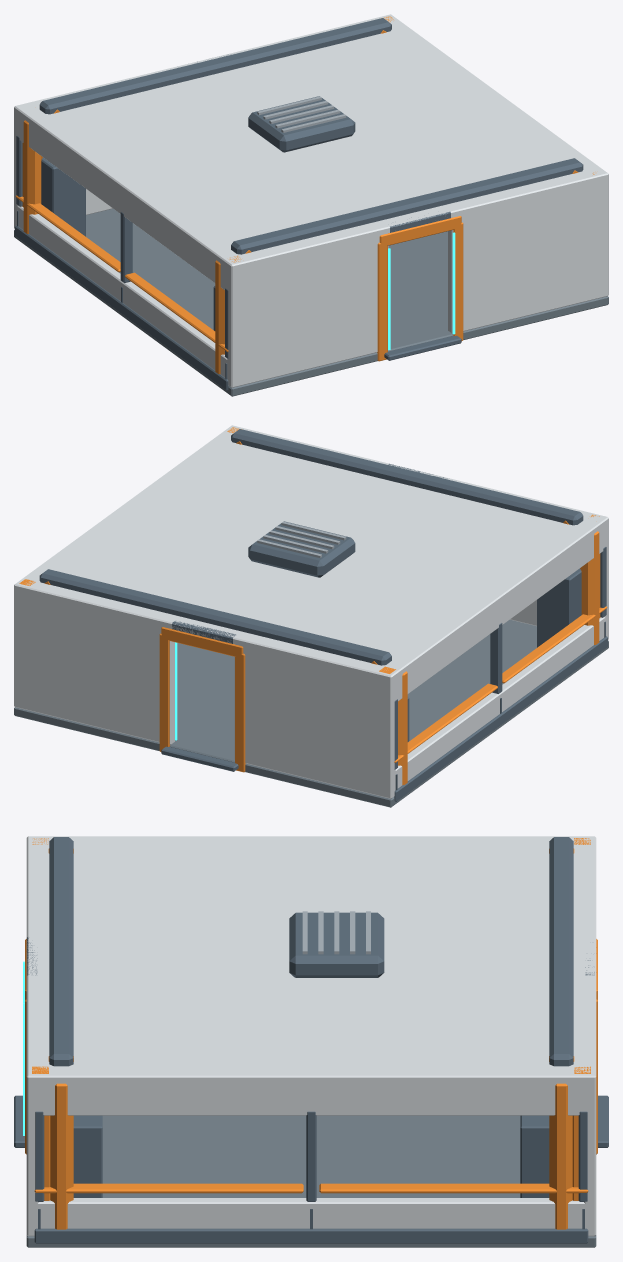
The model's file is room-WarehouseRoom.fbx.
The picture shows the model from 3 angles, top to bottom: view 1: azimuth 30°, elevation 25°; view 2: azimuth 150°, elevation 25°; view 3: azimuth 270°, elevation 25°; orthographic projection. The views are drawn at different scales.
Parts seen in each view (by area): view 1: room-WarehouseRoom_Roof.001, room-WarehouseRoom_End panel.004, room-WarehouseRoom_End panel.005, room-WarehouseRoom_Deck.001, room-WarehouseRoom_Window sill.002, room-WarehouseRoom_Roof cross brace.001, room-WarehouseRoom_Roof cross brace, room-WarehouseRoom_Window head.002, room-WarehouseRoom_Roof service pod, room-WarehouseRoom_Lower armour band, room-WarehouseRoom_Wall locker.005, room-WarehouseRoom_Armoured corner post.002 (+9 smaller); view 2: room-WarehouseRoom_Roof.001, room-WarehouseRoom_End panel.007, room-WarehouseRoom_End panel.006, room-WarehouseRoom_Deck.001, room-WarehouseRoom_Window sill.002, room-WarehouseRoom_Roof cross brace, room-WarehouseRoom_Roof cross brace.001, room-WarehouseRoom_Window head.002, room-WarehouseRoom_Roof service pod, room-WarehouseRoom_Lower armour band, room-WarehouseRoom_Wall locker.004, room-WarehouseRoom_Armoured corner post (+10 smaller); view 3: room-WarehouseRoom_Roof.001, room-WarehouseRoom_Deck.001, room-WarehouseRoom_Window head.003, room-WarehouseRoom_Window sill.003, room-WarehouseRoom_Lower armour band.001, room-WarehouseRoom_Roof cross brace, room-WarehouseRoom_Roof cross brace.001, room-WarehouseRoom_Roof service pod, room-WarehouseRoom_Armoured corner post.001, room-WarehouseRoom_Armoured corner post.003, room-WarehouseRoom_Window lower trim.007, room-WarehouseRoom_Window lower trim.006 (+10 smaller).
Part boxes in pixels (x1=…): room-WarehouseRoom_Roof.001: x1=14, y1=14, x2=608, y2=270; room-WarehouseRoom_End panel.004: x1=227, y1=233, x2=388, y2=387; room-WarehouseRoom_End panel.005: x1=448, y1=179, x2=608, y2=333; room-WarehouseRoom_Deck.001: x1=14, y1=209, x2=608, y2=396; room-WarehouseRoom_Window sill.002: x1=14, y1=204, x2=233, y2=386; room-WarehouseRoom_Roof cross brace.001: x1=39, y1=18, x2=391, y2=114; room-WarehouseRoom_Roof cross brace: x1=231, y1=158, x2=583, y2=254; room-WarehouseRoom_Window head.002: x1=14, y1=112, x2=238, y2=293; room-WarehouseRoom_Roof service pod: x1=248, y1=96, x2=355, y2=152; room-WarehouseRoom_Lower armour band: x1=15, y1=225, x2=228, y2=390; room-WarehouseRoom_Wall locker.005: x1=41, y1=157, x2=85, y2=236; room-WarehouseRoom_Armoured corner post.002: x1=23, y1=120, x2=42, y2=233; room-WarehouseRoom_Roof.001: x1=14, y1=425, x2=608, y2=681; room-WarehouseRoom_End panel.007: x1=14, y1=590, x2=174, y2=744; room-WarehouseRoom_End panel.006: x1=234, y1=644, x2=395, y2=798; room-WarehouseRoom_Deck.001: x1=14, y1=620, x2=608, y2=807; room-WarehouseRoom_Window sill.002: x1=384, y1=615, x2=608, y2=797; room-WarehouseRoom_Roof cross brace: x1=231, y1=429, x2=583, y2=525; room-WarehouseRoom_Roof cross brace.001: x1=39, y1=569, x2=391, y2=665; room-WarehouseRoom_Window head.002: x1=384, y1=523, x2=608, y2=705; room-WarehouseRoom_Roof service pod: x1=248, y1=521, x2=355, y2=577; room-WarehouseRoom_Lower armour band: x1=394, y1=636, x2=607, y2=801; room-WarehouseRoom_Wall locker.004: x1=537, y1=568, x2=581, y2=647; room-WarehouseRoom_Armoured corner post: x1=580, y1=531, x2=599, y2=644; room-WarehouseRoom_Roof.001: x1=26, y1=836, x2=596, y2=1083; room-WarehouseRoom_Deck.001: x1=26, y1=1115, x2=596, y2=1247; room-WarehouseRoom_Window head.003: x1=26, y1=1083, x2=595, y2=1115; room-WarehouseRoom_Window sill.003: x1=26, y1=1198, x2=595, y2=1235; room-WarehouseRoom_Lower armour band.001: x1=34, y1=1228, x2=588, y2=1243; room-WarehouseRoom_Roof cross brace: x1=49, y1=837, x2=73, y2=1066; room-WarehouseRoom_Roof cross brace.001: x1=549, y1=837, x2=573, y2=1066; room-WarehouseRoom_Roof service pod: x1=289, y1=912, x2=384, y2=977; room-WarehouseRoom_Armoured corner post.001: x1=50, y1=1083, x2=73, y2=1229; room-WarehouseRoom_Armoured corner post.003: x1=549, y1=1083, x2=572, y2=1229; room-WarehouseRoom_Window lower trim.007: x1=319, y1=1183, x2=588, y2=1193; room-WarehouseRoom_Window lower trim.006: x1=34, y1=1183, x2=303, y2=1193.
Bounding box in the file's own units: 910 × 343 × 940.
